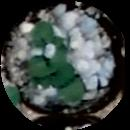Basil: (60, 64, 88, 97), (28, 52, 64, 76), (35, 25, 62, 49), (36, 75, 65, 88)
